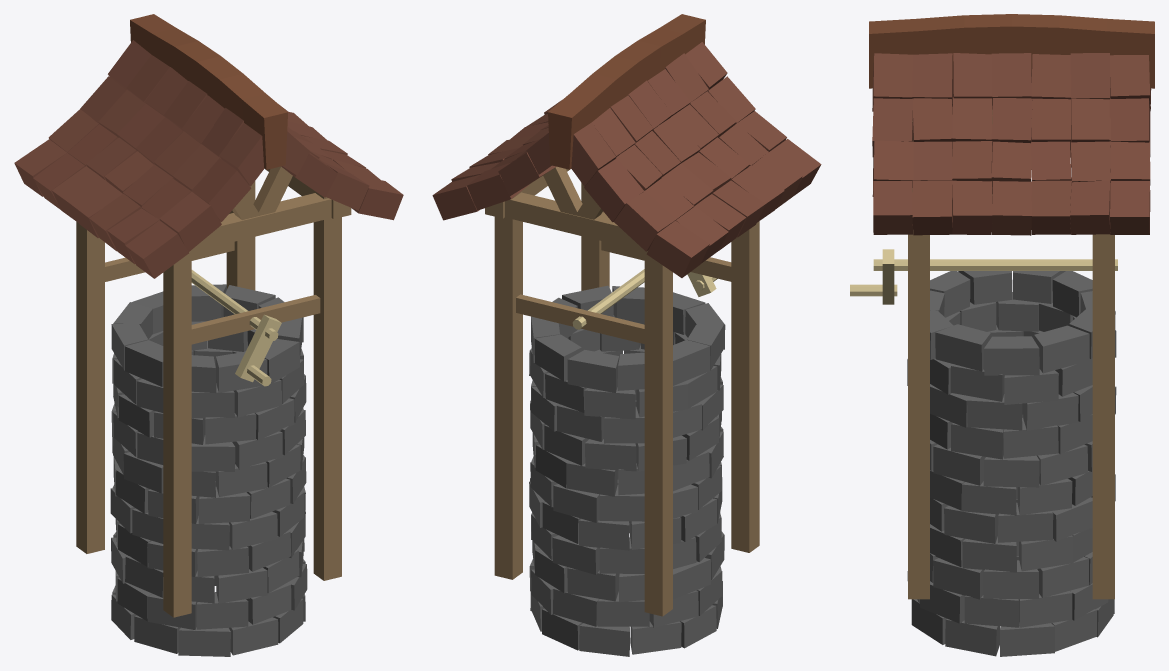
3 renders of one model, left to right at view 1: azimuth 30°, elevation 25°; view 2: azimuth 150°, elevation 25°; view 3: azimuth 270°, elevation 25°, orthographic. The views are drawn at different scales.
Parts seen in each view (by area): view 1: jin, 立方体.022, 立方体.018, 立方体.017, 立方体.003; view 2: jin, 立方体.022, 立方体.018, 立方体.017, 立方体.003; view 3: jin, 立方体.018, 立方体.022, 立方体.017, 立方体.003.
Part boxes in pixels (bbox=[...]): jin: bbox=[110, 284, 307, 656]; 立方体.022: bbox=[76, 166, 351, 617]; 立方体.018: bbox=[14, 40, 403, 278]; 立方体.017: bbox=[130, 14, 287, 169]; 立方体.003: bbox=[191, 270, 281, 386]; jin: bbox=[529, 285, 725, 656]; 立方体.022: bbox=[485, 166, 759, 616]; 立方体.018: bbox=[432, 42, 821, 277]; 立方体.017: bbox=[548, 14, 705, 169]; 立方体.003: bbox=[572, 269, 717, 329]; jin: bbox=[907, 271, 1116, 656]; 立方体.018: bbox=[872, 53, 1151, 235]; 立方体.022: bbox=[908, 110, 1114, 599]; 立方体.017: bbox=[869, 14, 1154, 88]; 立方体.003: bbox=[850, 249, 1117, 304].
Bounding box in the file's own units: 130 × 266 × 124.
